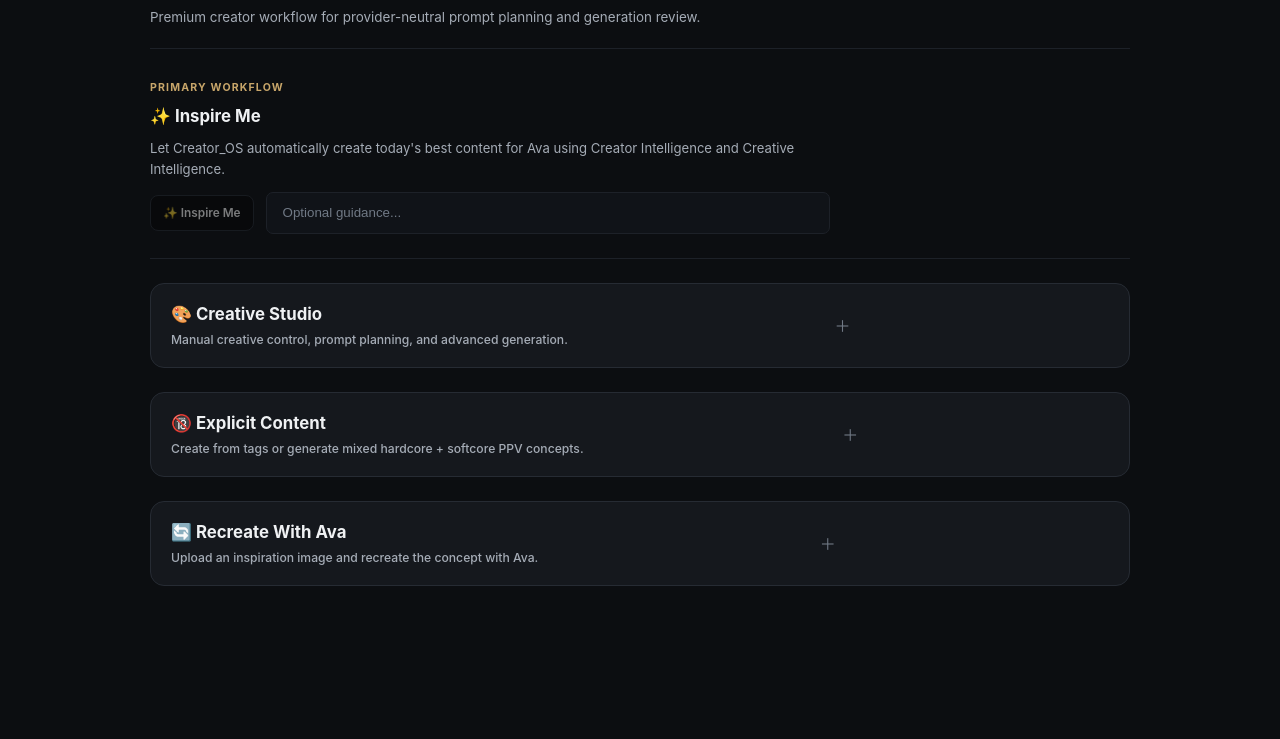
Test: ContentStudioPage › keeps Explicit Content collapsed by default and preserves state across toggles
Expected: the element named "Inspire Me Workspace" is shown, [150,49,1130,259]
Click the heading "🔞 Explicit Content" at coordinates (248, 423), box [171,413,584,456]
(page scrolled)
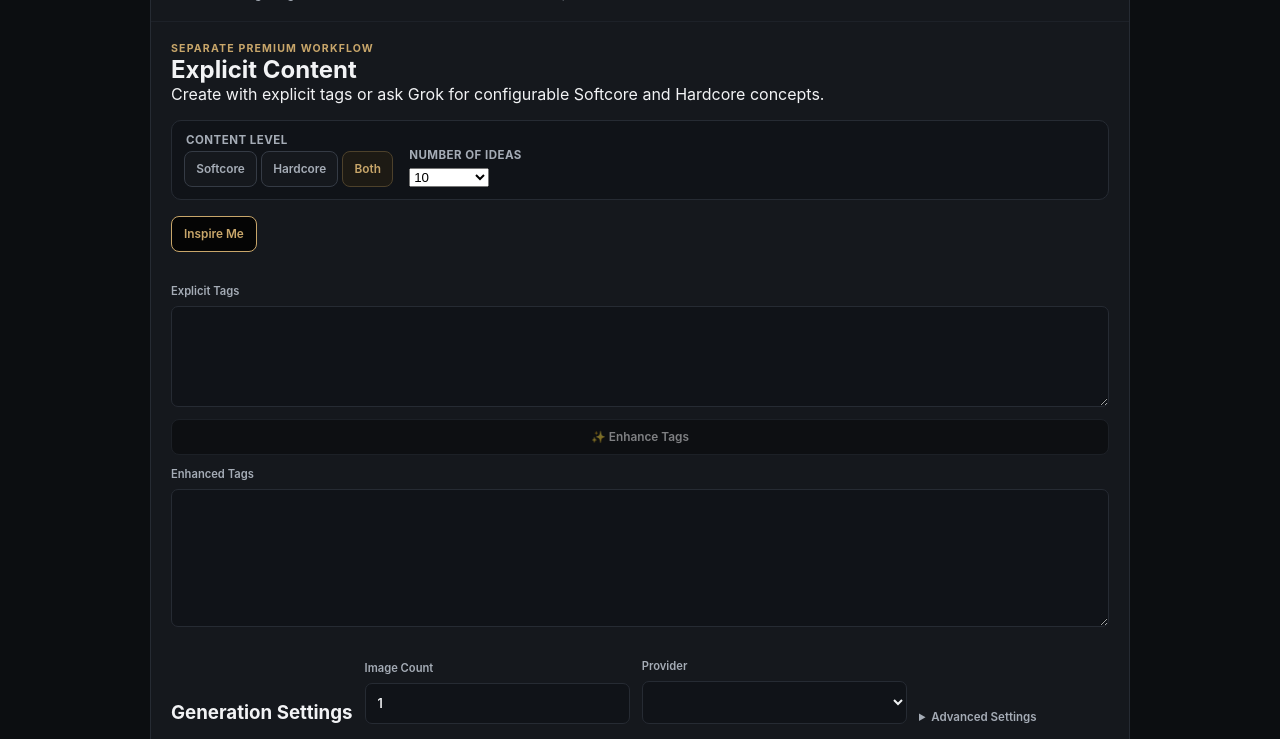
Result: the button "Inspire Me" is shown at [171,216,257,252]
Result: the element named "Explicit Generation Settings" is shown at [171,659,1109,724]
Result: the dropdown named "Explicit Provider" is shown at [642,681,907,724]
Type "preserved explicit direction" into the text box labelled "Explicit Tags" at coordinates (640, 356), box [171,306,1109,407]
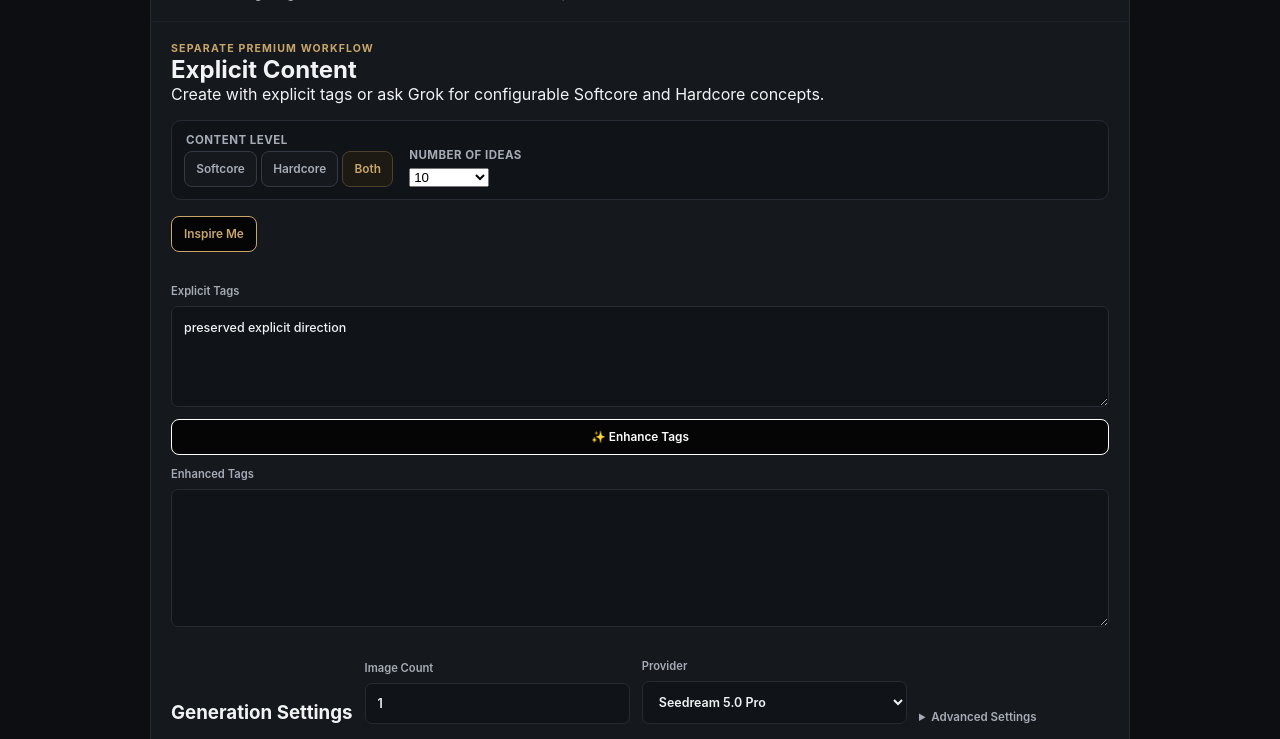
Click the button "Inspire Me" at coordinates (214, 234), box [171,216,257,252]
(page scrolled)
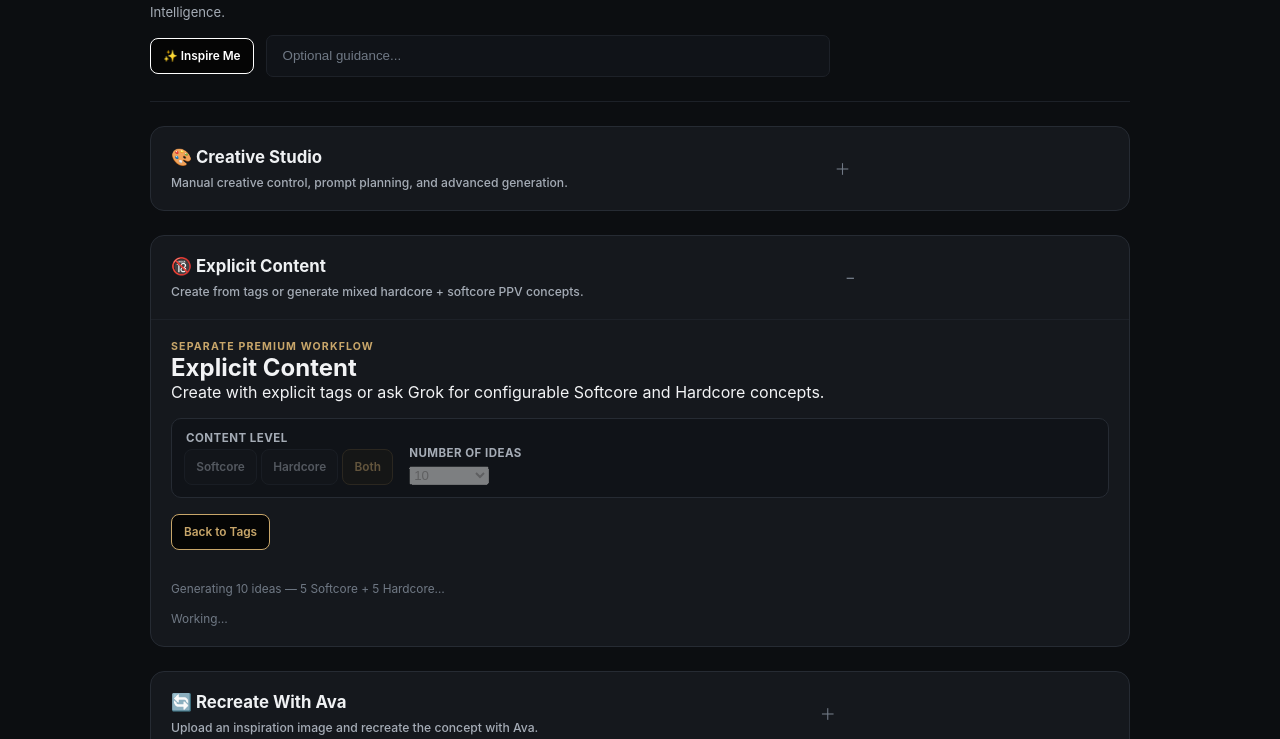
Result: the dropdown labelled "Explicit Provider" is gone
Result: the heading "Advanced Settings" is gone
Click the heading "🔞 Explicit Content" at coordinates (248, 266), box [171,256,584,299]
(page scrolled)
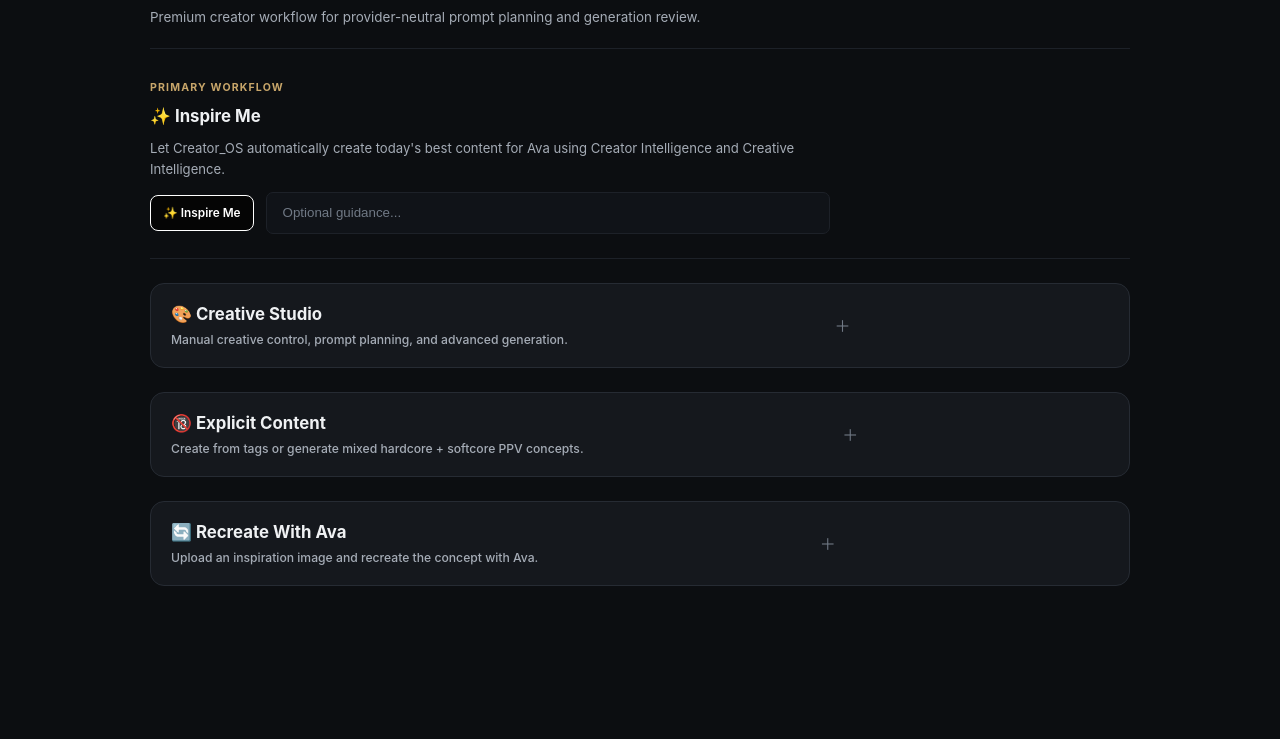
Result: the text "🔞 Explicit Content" does not have attribute open at [150,392,1130,477]
Click the heading "🔞 Explicit Content" at coordinates (248, 423), box [171,413,584,456]
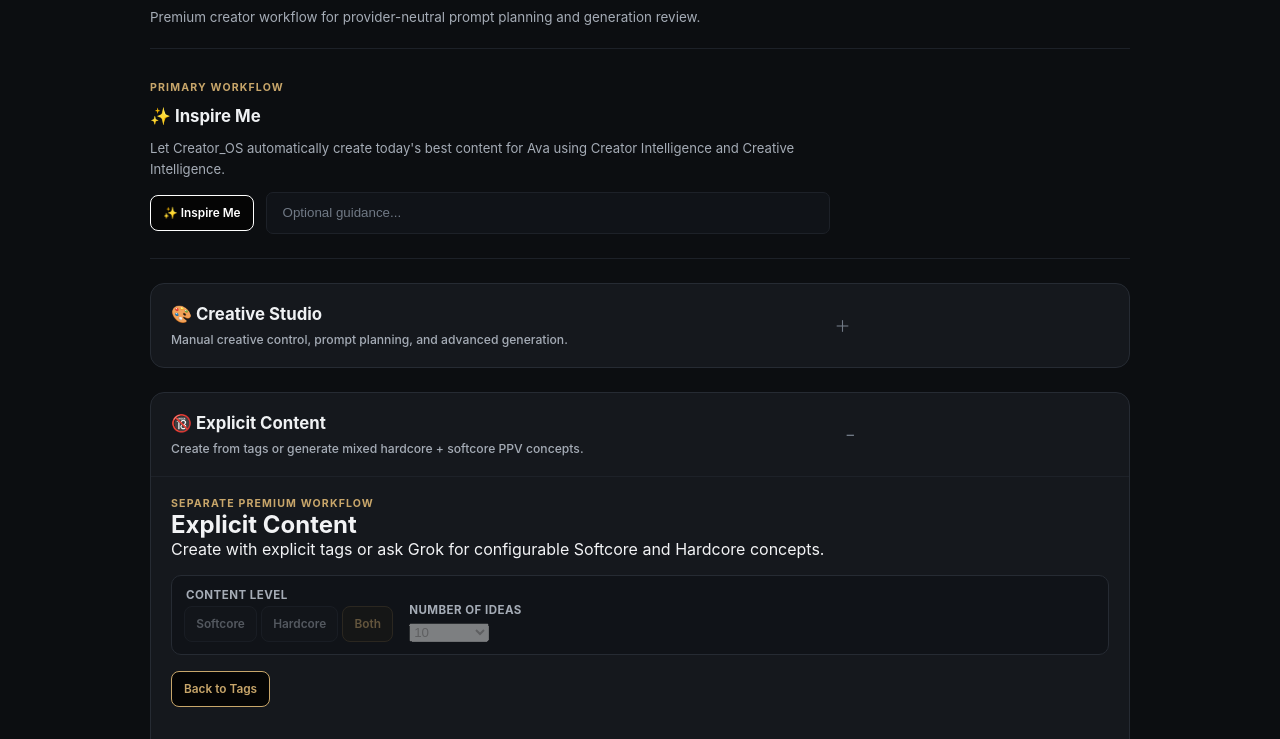
Click the button "Back to Tags" at coordinates (221, 689), box [171,671,270,707]
(page scrolled)
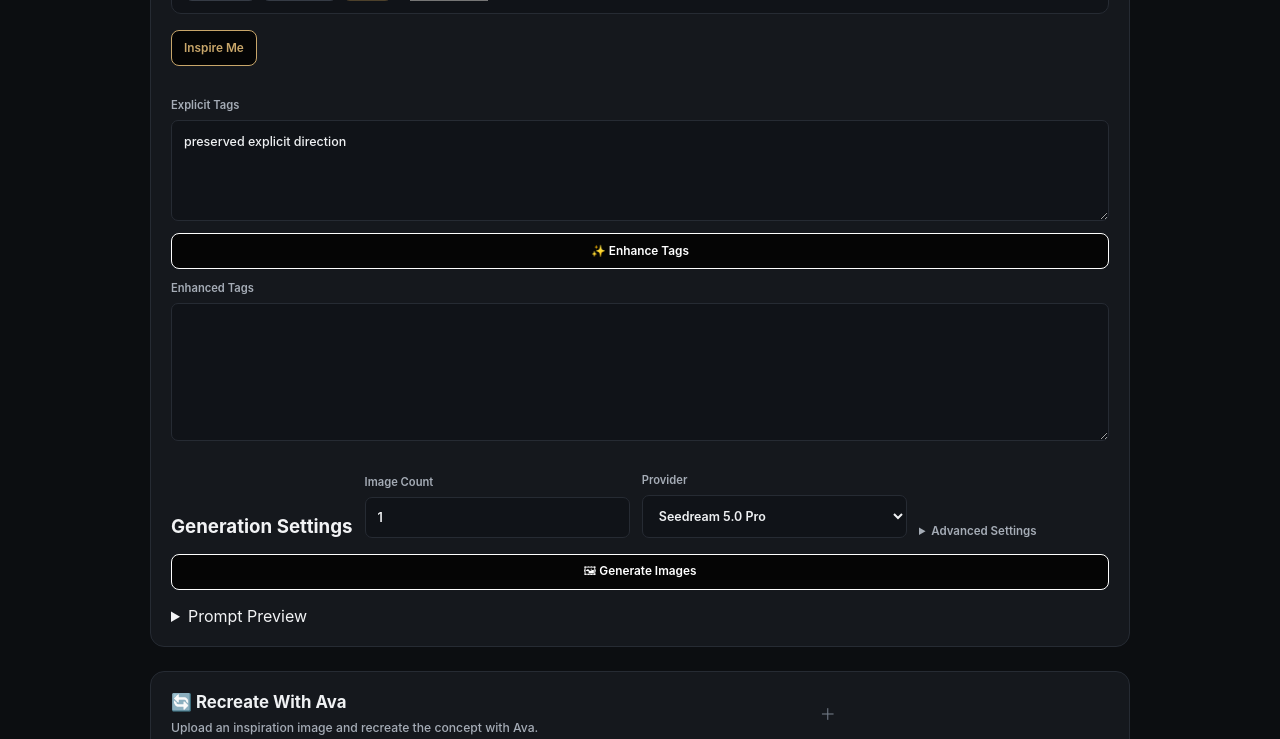
Result: the text box labelled "Explicit Tags" holds "preserved explicit direction" at [171,120,1109,221]
Result: the element named "Explicit Generation Settings" is shown at [171,473,1109,538]
